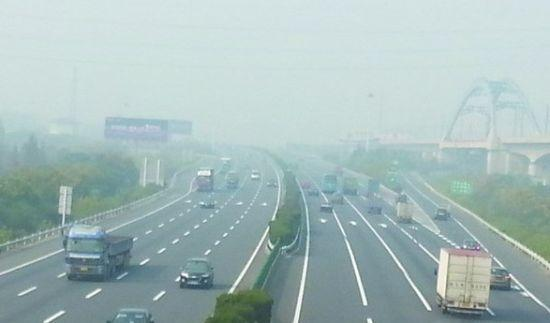bus: (61, 223, 133, 282), (433, 247, 493, 315), (196, 168, 214, 192), (395, 201, 414, 223), (321, 173, 338, 192), (386, 163, 401, 182), (225, 170, 239, 189), (344, 177, 358, 195), (220, 158, 233, 173)
car: (179, 258, 215, 289), (105, 308, 155, 323), (486, 266, 512, 291), (460, 240, 481, 257), (368, 200, 383, 215), (433, 207, 449, 221), (388, 181, 403, 195), (366, 179, 380, 193), (200, 196, 215, 209), (331, 192, 344, 204), (307, 185, 320, 196), (250, 169, 262, 180), (320, 203, 333, 212), (267, 177, 277, 187)
